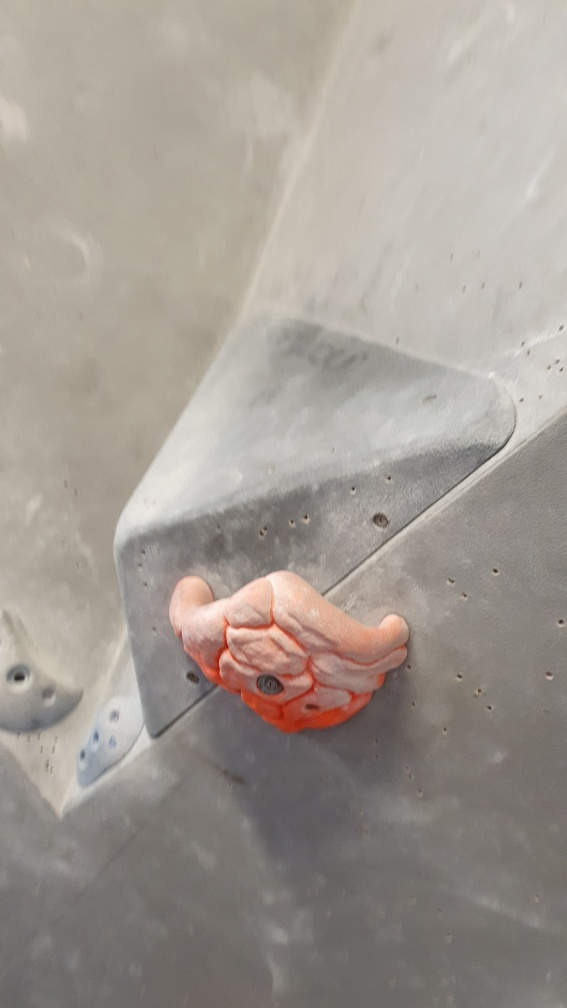Jug: (166, 567, 413, 733)
